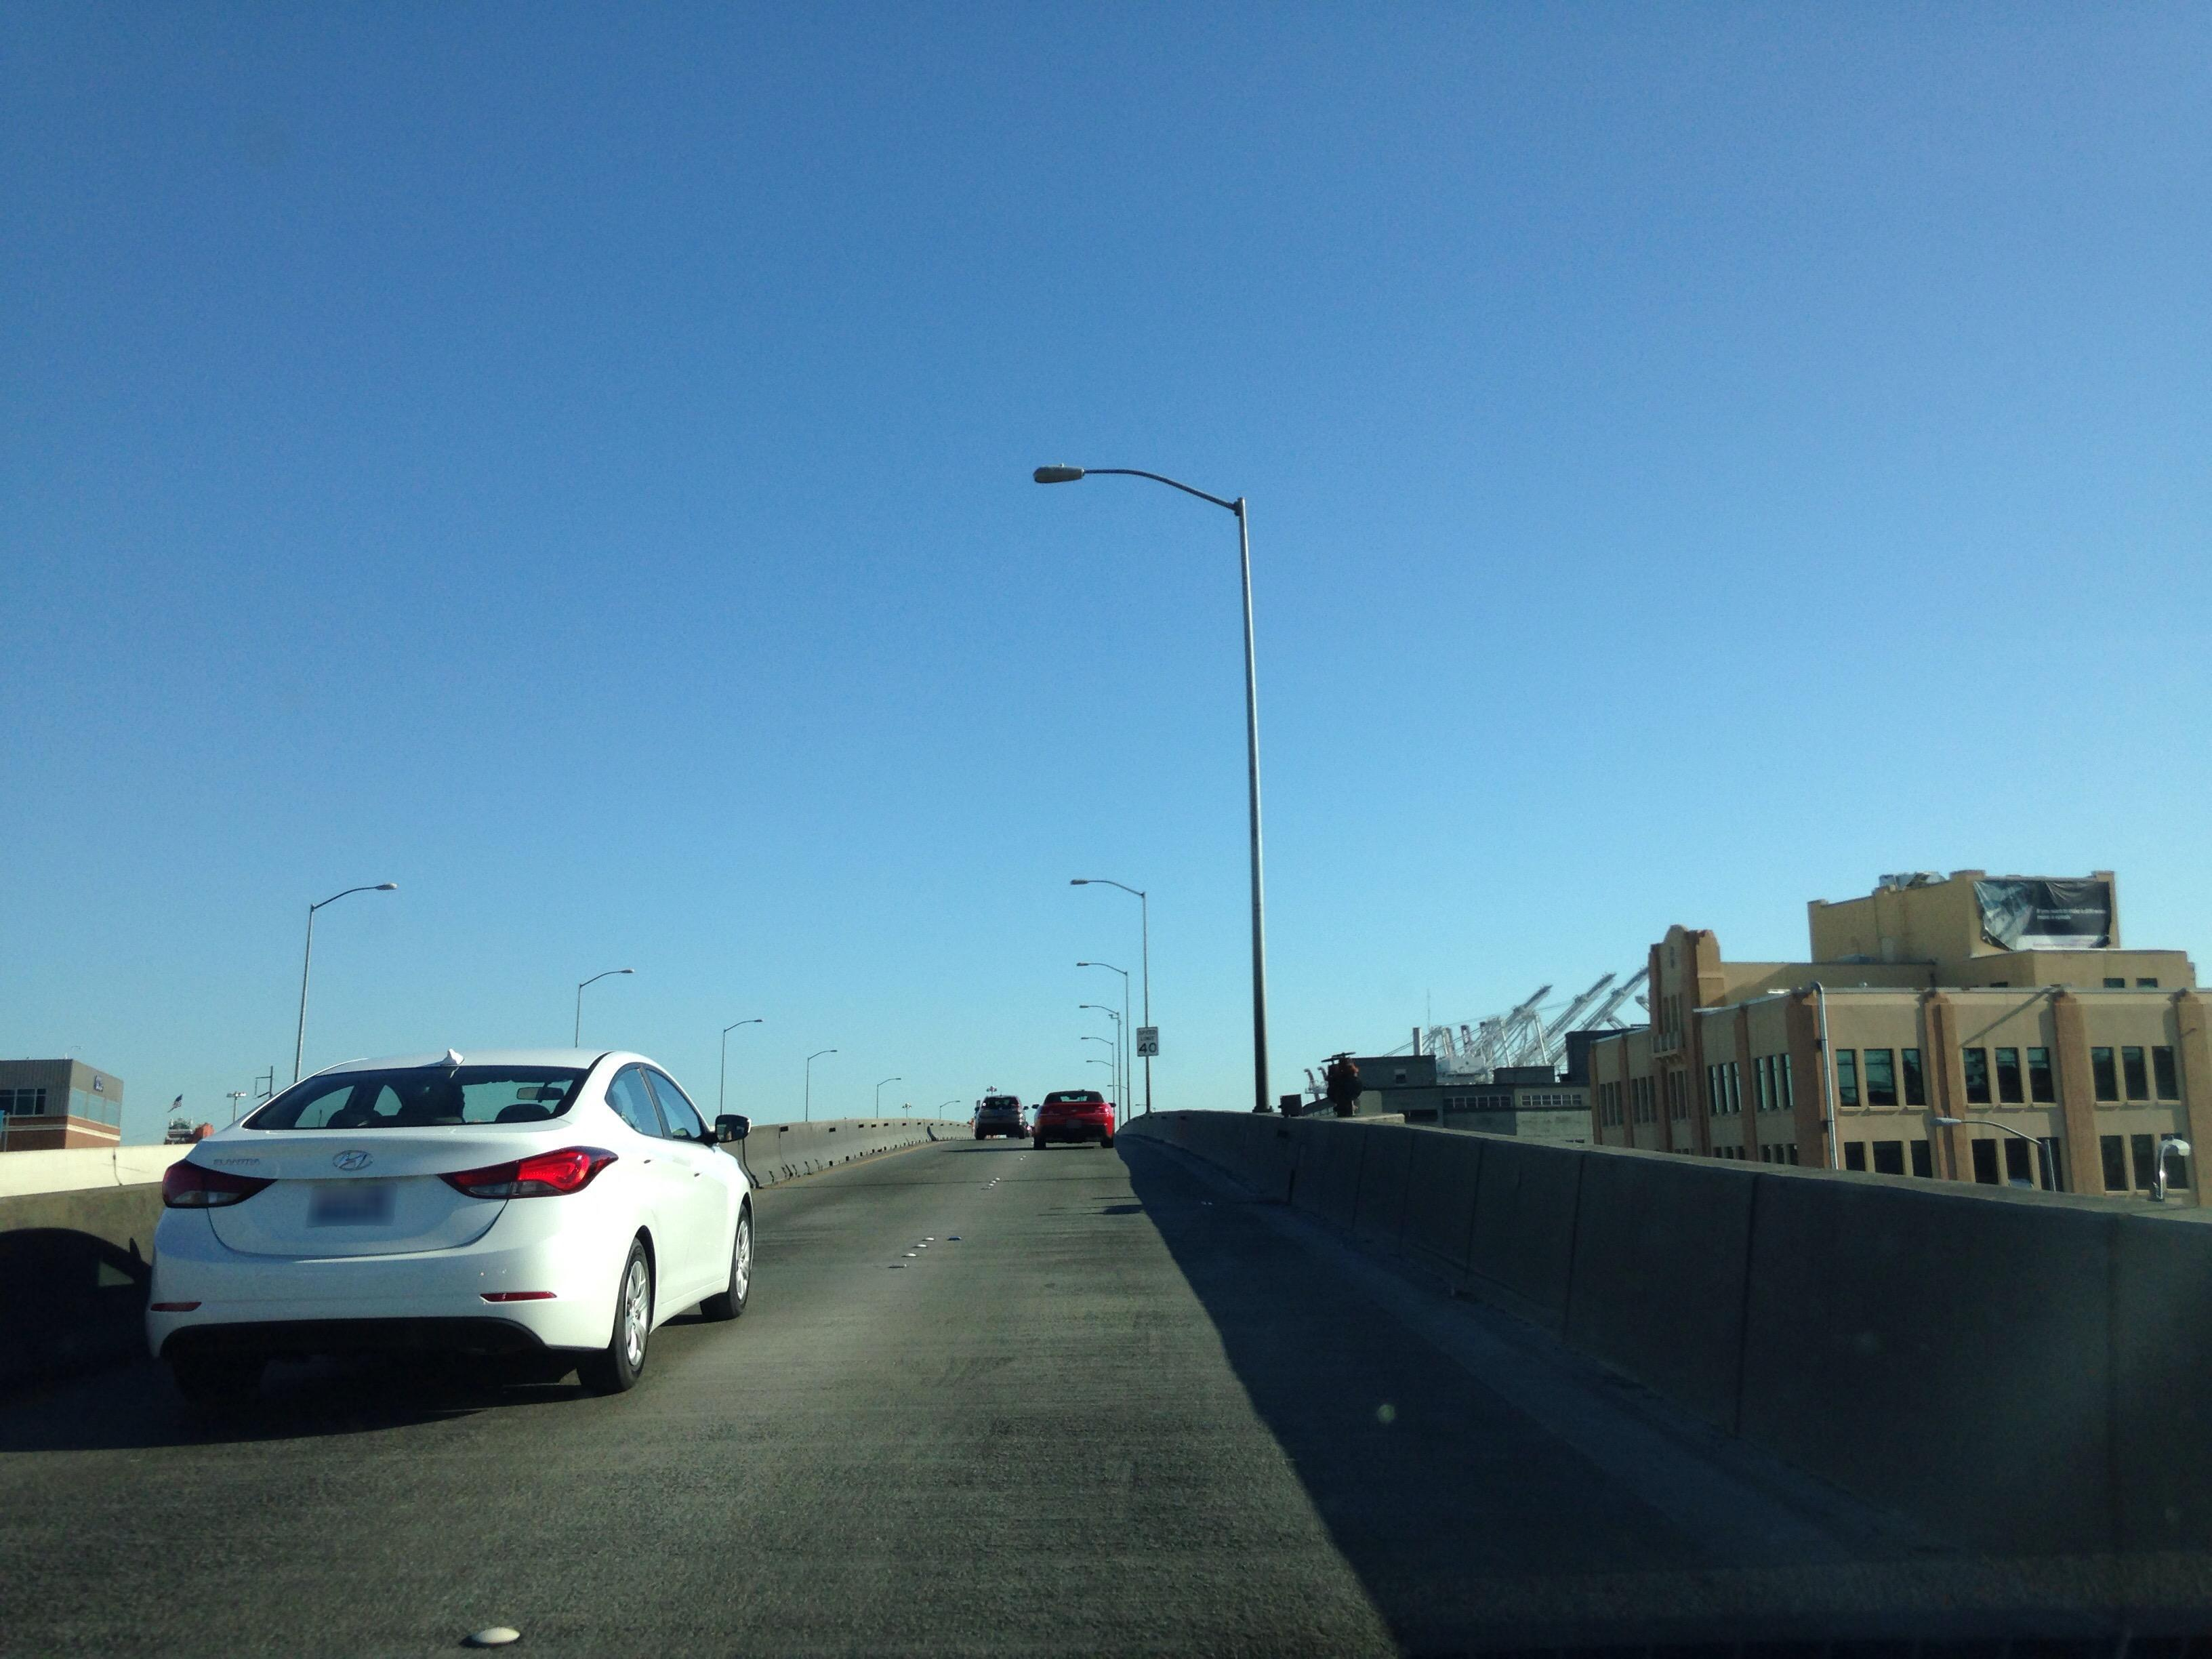vinyl banner: (1966, 864, 2128, 969)
